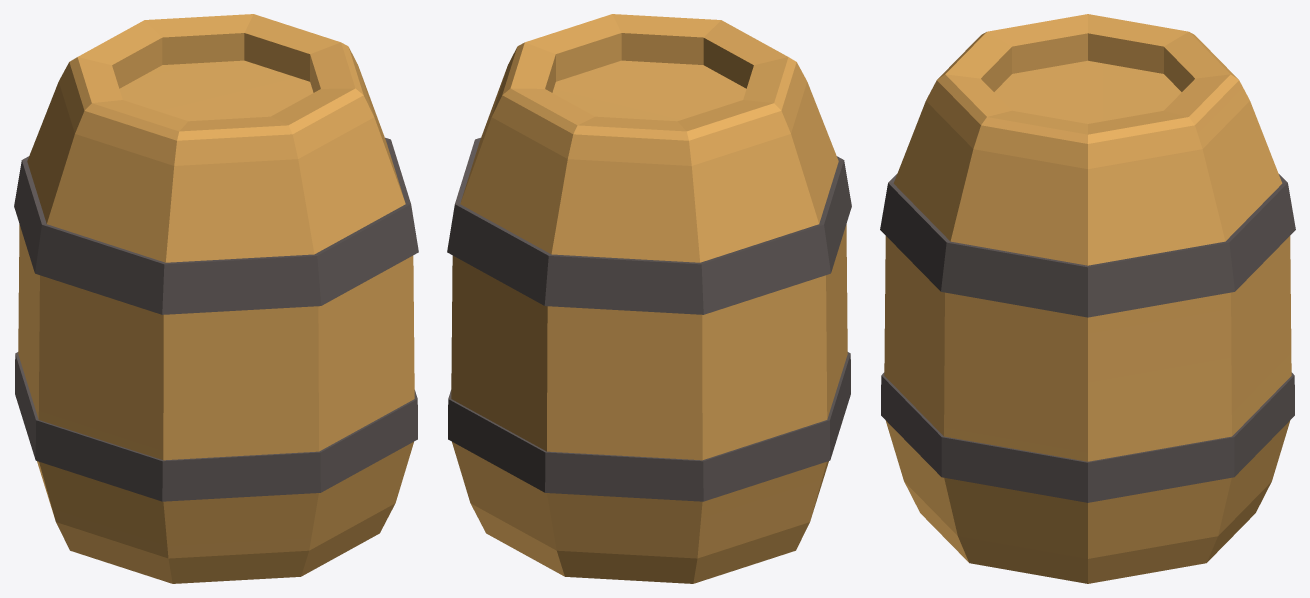
The model's file is Barrel.fbx.
3 views of the same model, side by side, from view 1: azimuth 30°, elevation 25°; view 2: azimuth 150°, elevation 25°; view 3: azimuth 270°, elevation 25° (orthographic).
Parts seen in each view (by area): view 1: Barrel; view 2: Barrel; view 3: Barrel.
Part boxes in pixels (x1=…): Barrel: x1=14, y1=14, x2=418, y2=583; Barrel: x1=447, y1=14, x2=851, y2=583; Barrel: x1=880, y1=14, x2=1295, y2=583.
Bounding box in the file's own units: 80.92 × 94.2 × 80.92.
